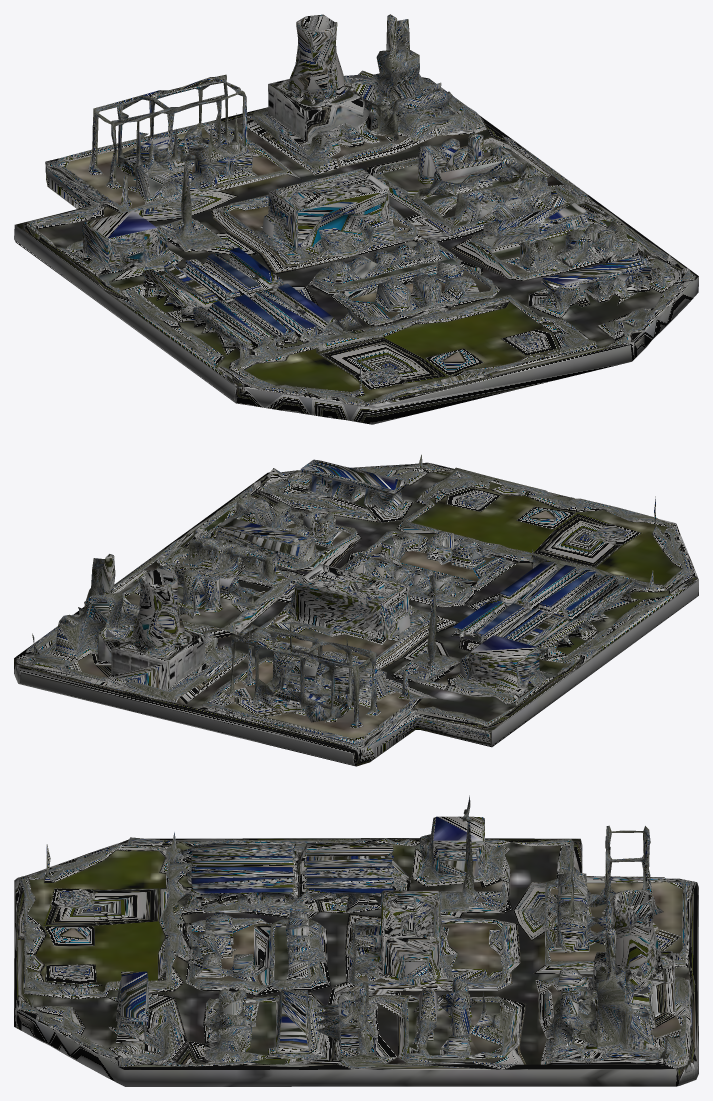
The model's file is Factory_LOD1.fbx.
3 views of the same model, one above another, from view 1: azimuth 30°, elevation 25°; view 2: azimuth 150°, elevation 25°; view 3: azimuth 270°, elevation 25° (orthographic). The views are drawn at different scales.
Visible parts, largest first — view 1: Factory_LOD1; view 2: Factory_LOD1; view 3: Factory_LOD1.
Boxes of the visible parts, <box> form: Factory_LOD1: <box>14,14,698,424</box>; Factory_LOD1: <box>14,454,698,766</box>; Factory_LOD1: <box>14,795,698,1086</box>.
Size of the model in its own units: 128 by 31.88 by 160.
